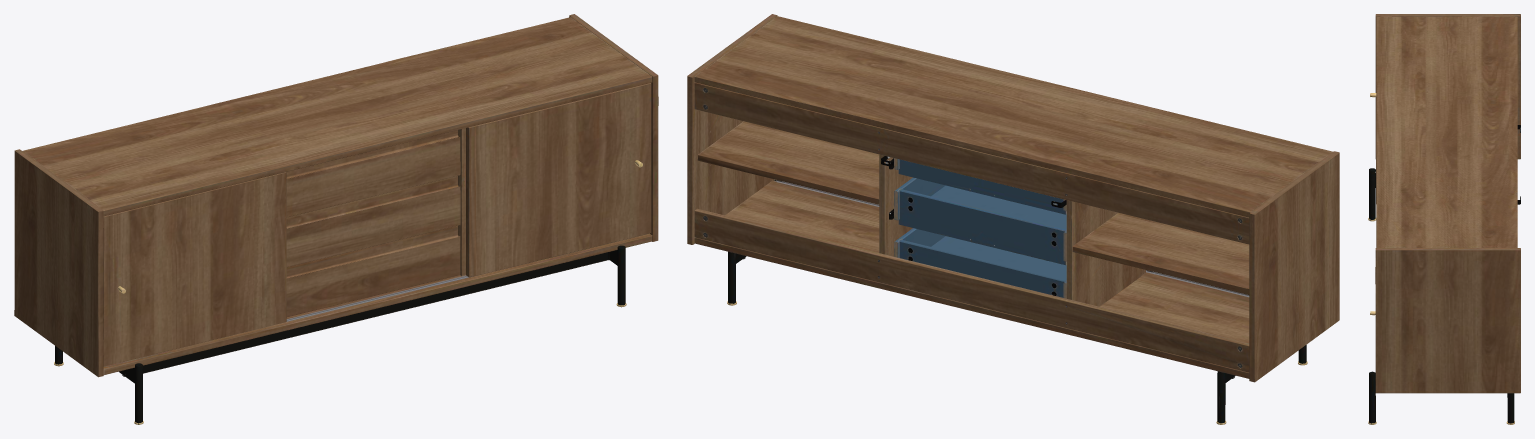
Rendered from radmanso_szafka_pod_tv_40597818.glb.
3 renders of one model, left to right at view 1: azimuth 30°, elevation 25°; view 2: azimuth 150°, elevation 25°; view 3: azimuth 270°, elevation 25°, orthographic. The views are drawn at different scales.
Parts seen in each view (by area): view 1: radmanso_szafka_pod_tv_40597818; view 2: radmanso_szafka_pod_tv_40597818; view 3: radmanso_szafka_pod_tv_40597818.
Part boxes in pixels (box(x1,y1,x2,y2)): radmanso_szafka_pod_tv_40597818: box(14, 14, 658, 424); radmanso_szafka_pod_tv_40597818: box(687, 14, 1339, 424); radmanso_szafka_pod_tv_40597818: box(1368, 14, 1520, 424).
Size of the model in its own units: 1.76 by 0.6611 by 0.482.
Materials: 1 (1 with a texture image).
